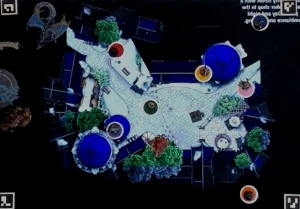blue: (251, 13, 270, 32)
green: (141, 98, 161, 117)
orange: (240, 182, 259, 203)
pink: (237, 79, 255, 98)
red: (108, 41, 126, 56)
violet: (104, 119, 127, 139)
yellow: (196, 63, 214, 83)
